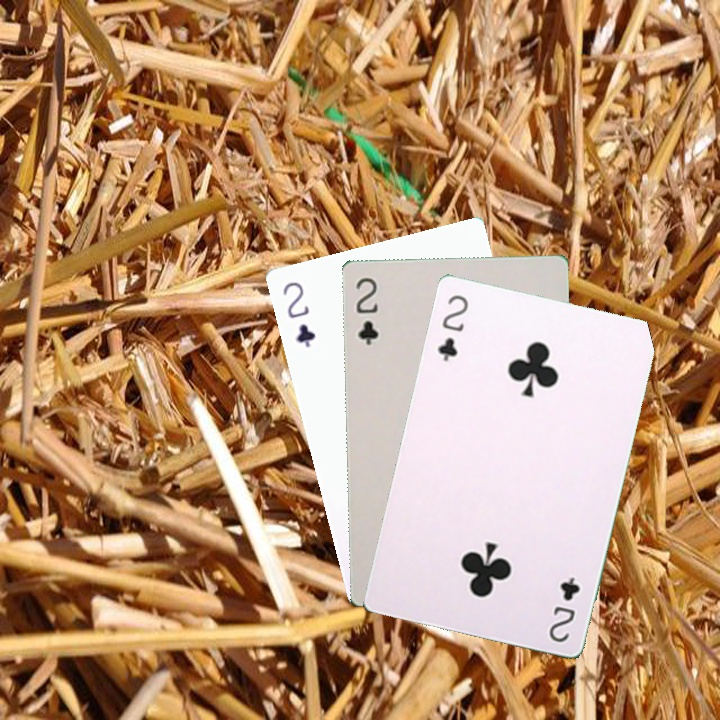2c: (278, 277, 318, 351), (433, 291, 471, 364), (544, 573, 582, 645), (352, 274, 381, 348)
